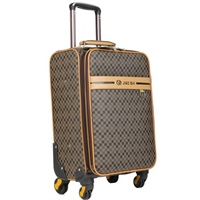suitcase: (50, 0, 159, 200)
